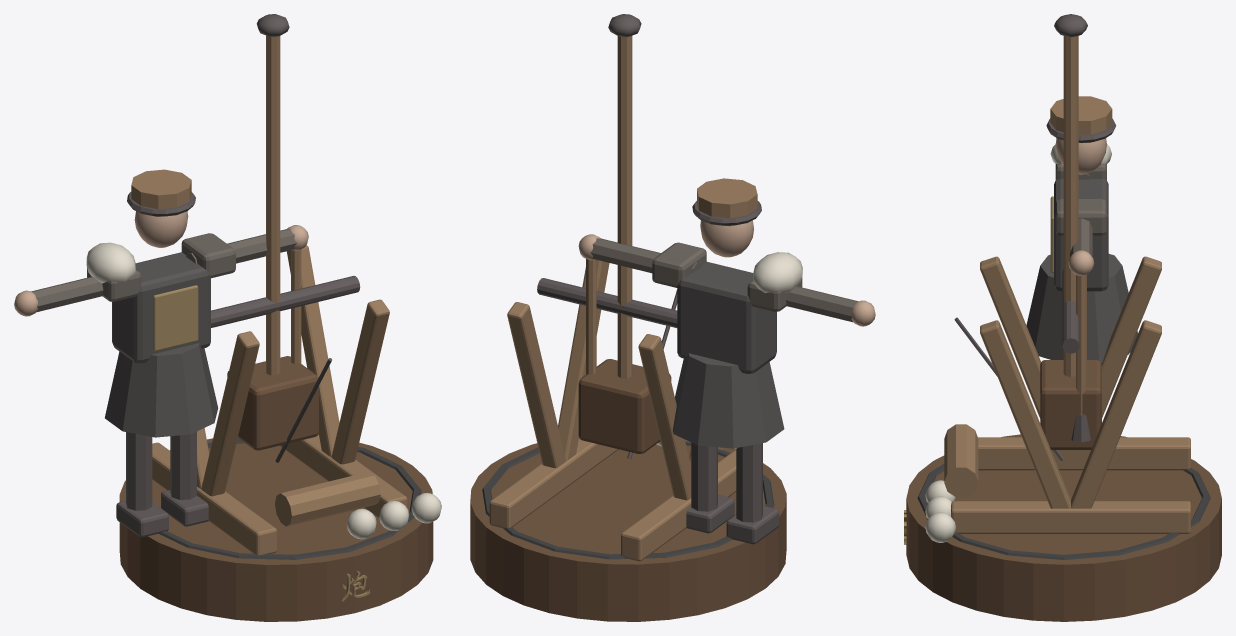
The model's file is cannon_black.glb.
3 renders of one model, left to right at view 1: azimuth 30°, elevation 25°; view 2: azimuth 150°, elevation 25°; view 3: azimuth 270°, elevation 25°, orthographic.
Visible parts, largest first — view 1: base, cn_crew_skirt, cn_crew_cuirass, cn_counter, cn_arm, cn_frame_a_0.22, cn_frame_a_-0.22, cn_winch, cn_base_beam_-0.22, cn_frame_b_0.22, cn_crew_plastron, cn_pivot (+19 smaller); view 2: base, cn_crew_cuirass, cn_crew_skirt, cn_counter, cn_arm, cn_frame_b_0.22, cn_base_beam_0.22, cn_frame_b_-0.22, cn_base_beam_-0.22, cn_frame_a_0.22, base_trim_top, cn_pivot (+14 smaller); view 3: base, cn_base_beam_0.22, cn_crew_skirt, cn_base_beam_-0.22, cn_frame_b_0.22, cn_frame_a_0.22, cn_counter, cn_arm, cn_frame_a_-0.22, cn_frame_b_-0.22, cn_crew_cuirass, cn_winch (+11 smaller).
Part boxes in pixels (<box>): base: <box>119,438,433,621</box>; cn_crew_skirt: <box>105,343,218,437</box>; cn_crew_cuirass: <box>112,252,210,363</box>; cn_counter: <box>227,356,318,450</box>; cn_arm: <box>266,35,280,375</box>; cn_frame_a_0.22: <box>331,299,389,464</box>; cn_frame_a_-0.22: <box>201,331,259,496</box>; cn_winch: <box>275,471,380,526</box>; cn_base_beam_-0.22: <box>152,442,276,555</box>; cn_frame_b_0.22: <box>286,245,339,456</box>; cn_crew_plastron: <box>153,285,198,351</box>; cn_pivot: <box>211,276,360,327</box>; base: <box>470,443,786,621</box>; cn_crew_cuirass: <box>677,262,776,373</box>; cn_crew_skirt: <box>672,353,784,448</box>; cn_counter: <box>578,359,671,453</box>; cn_arm: <box>617,36,632,378</box>; cn_frame_b_0.22: <box>507,302,565,468</box>; cn_base_beam_0.22: <box>489,438,618,528</box>; cn_frame_b_-0.22: <box>638,334,691,500</box>; cn_base_beam_-0.22: <box>621,449,736,561</box>; cn_frame_a_0.22: <box>558,260,609,460</box>; base_trim_top: <box>482,441,774,559</box>; cn_pivot: <box>537,278,677,327</box>; base: <box>906,434,1221,621</box>; cn_base_beam_0.22: <box>951,501,1190,533</box>; cn_crew_skirt: <box>1026,254,1137,362</box>; cn_base_beam_-0.22: <box>978,437,1190,470</box>; cn_frame_b_0.22: <box>1071,320,1161,508</box>; cn_frame_a_0.22: <box>980,320,1070,508</box>; cn_counter: <box>1040,360,1101,449</box>; cn_arm: <box>1063,36,1078,376</box>; cn_frame_a_-0.22: <box>980,256,1041,418</box>; cn_frame_b_-0.22: <box>1101,256,1161,417</box>; cn_crew_cuirass: <box>1054,179,1108,291</box>; cn_winch: <box>944,424,978,497</box>.
Size of the model in its own units: 1.31 by 1.73 by 0.927.
